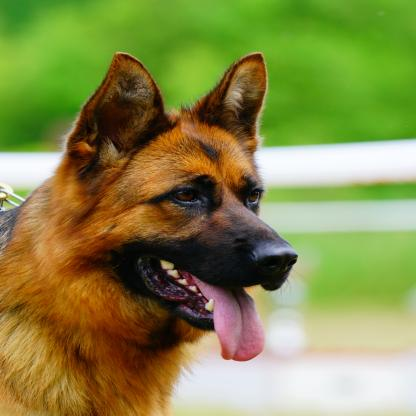german shepherd: (0, 45, 300, 416)
